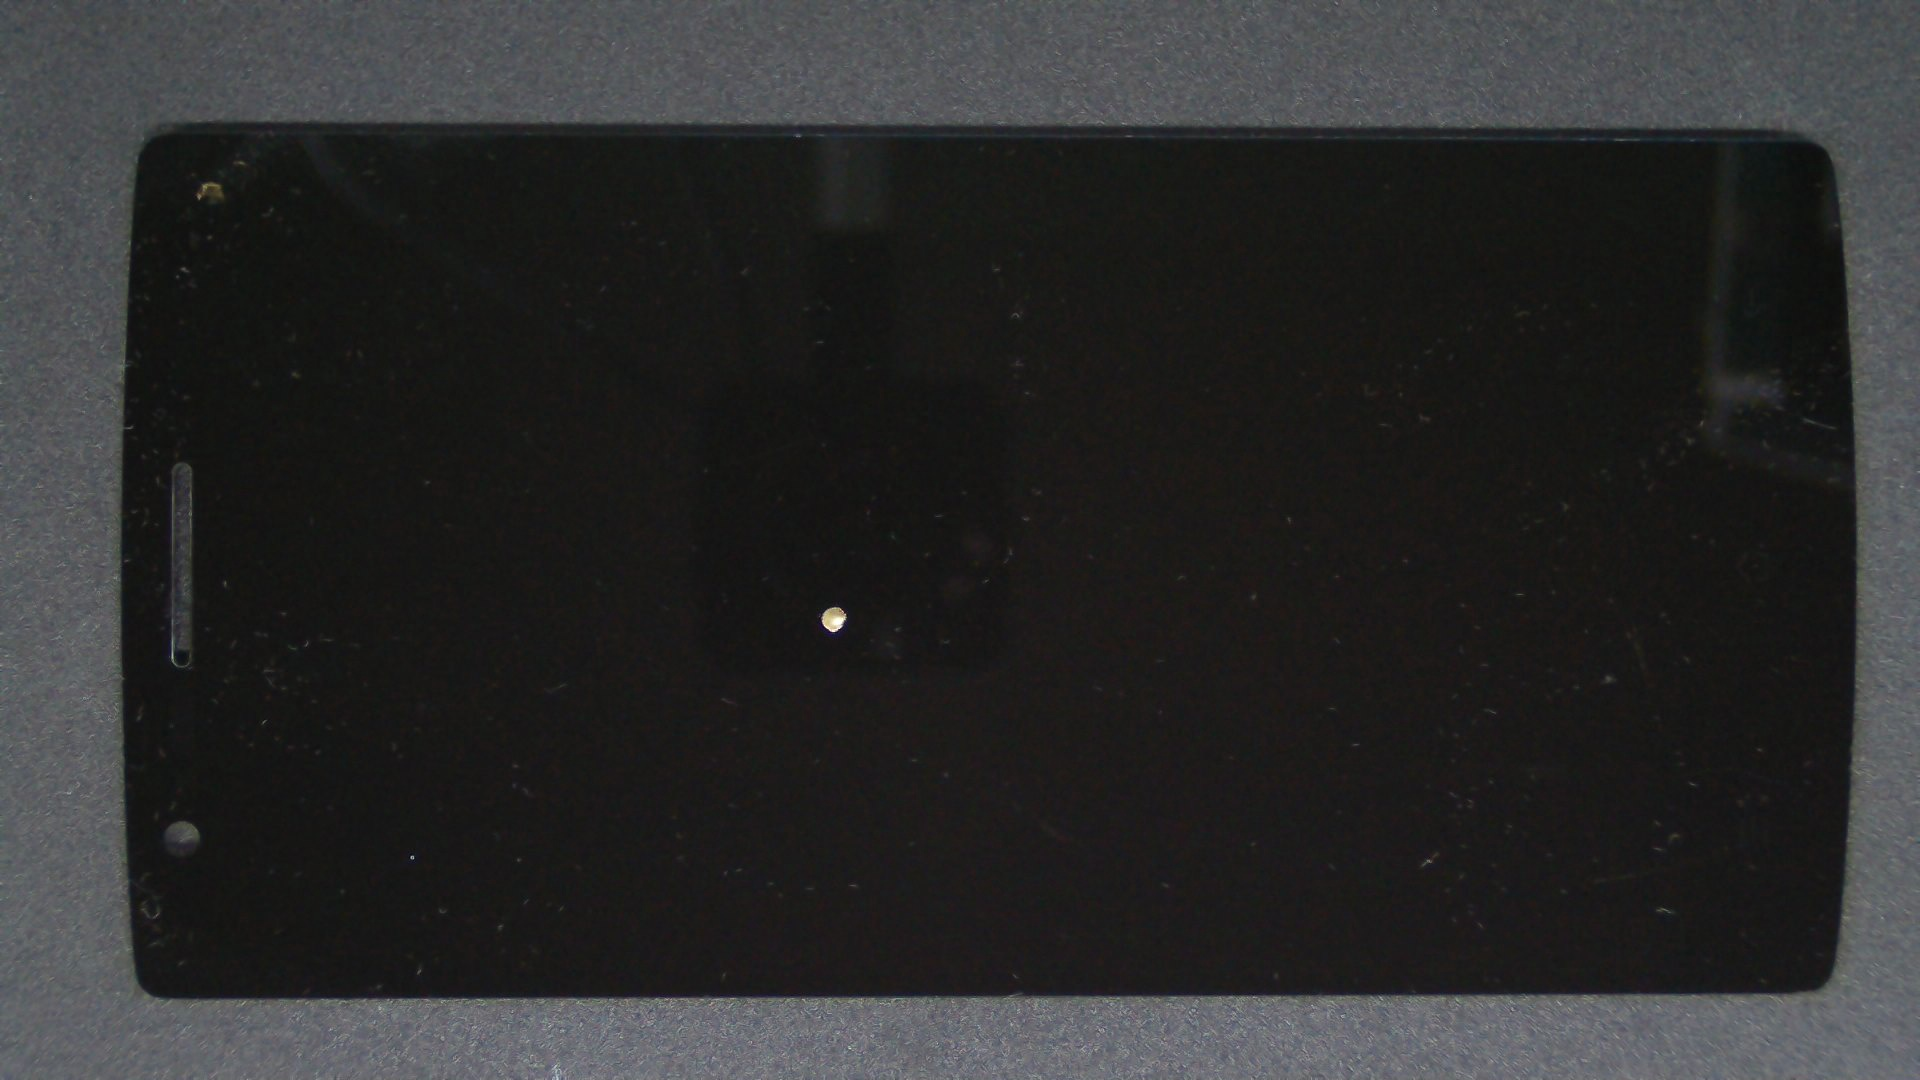oil: (415, 302, 1244, 910)
